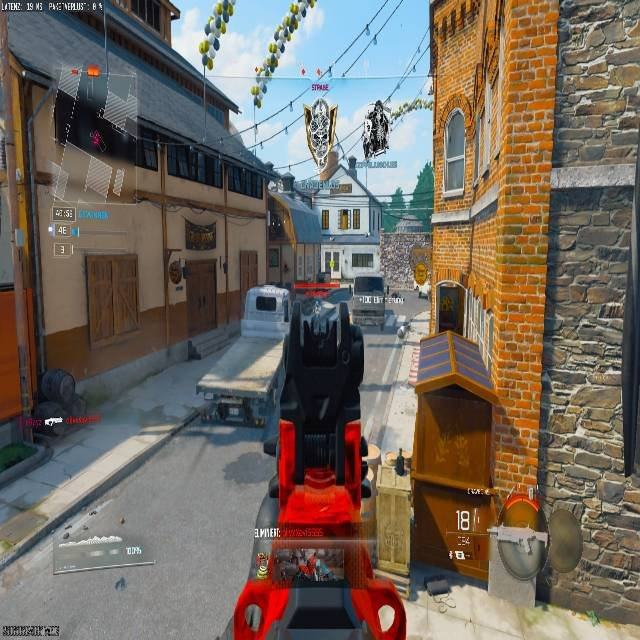head: (38, 368, 77, 403)
